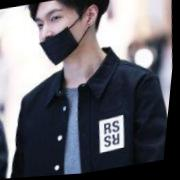WRONG: (33, 1, 94, 67)
